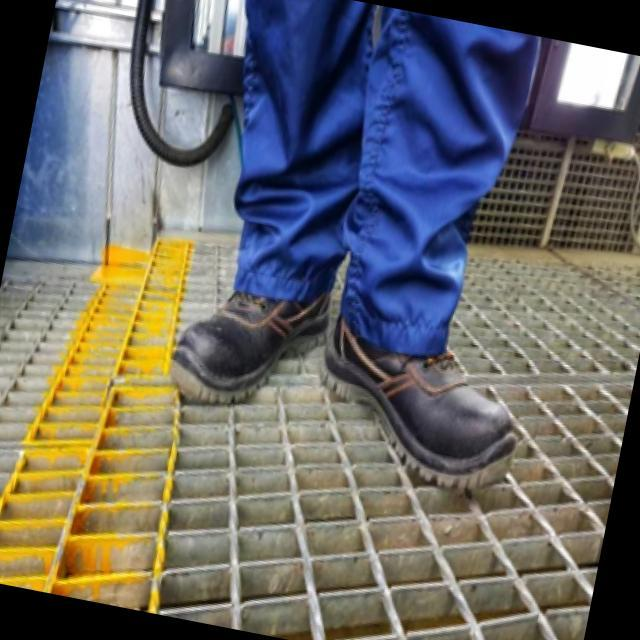shoes: (150, 186, 559, 503)
